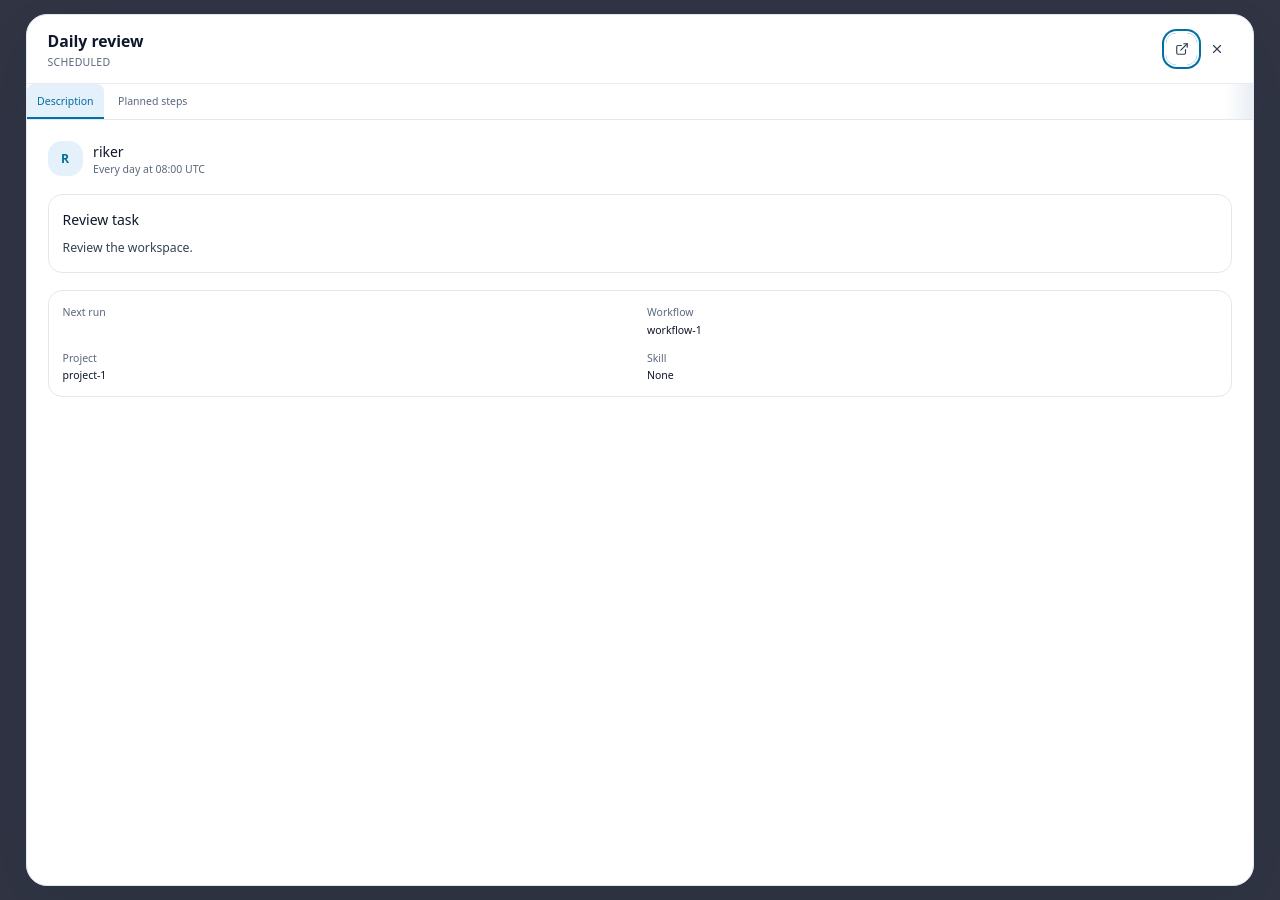
Test: ScheduleDashboardModal › retries a transient workflow failure while the modal remains open
Click the tab with test id "dashboard-schedule-modal-tab-steps": (153, 102) [108, 84, 198, 119]
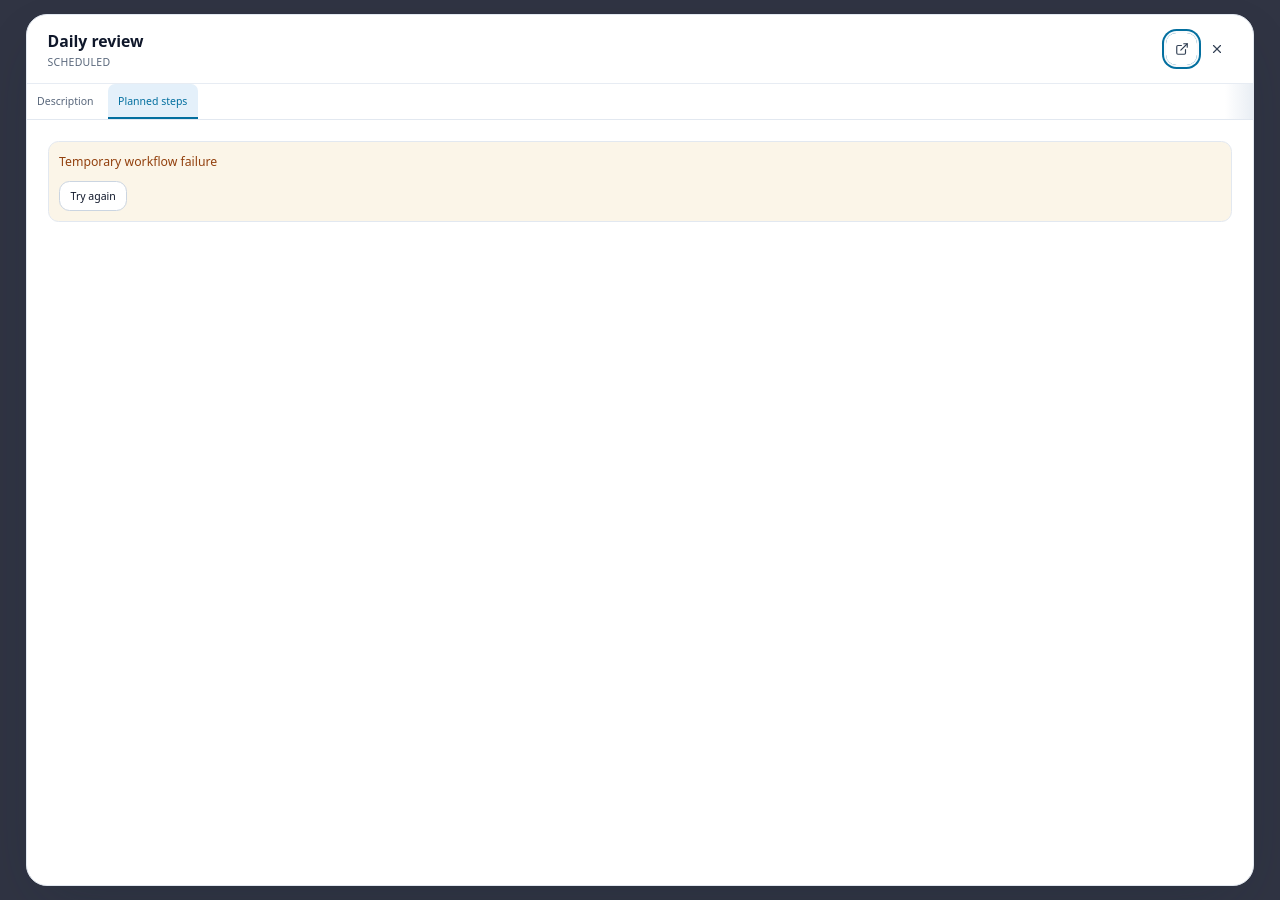
Expected: the message shows "Temporary workflow failure", [59, 153, 217, 170]
Click the button "Try again": (93, 196) [59, 181, 127, 211]
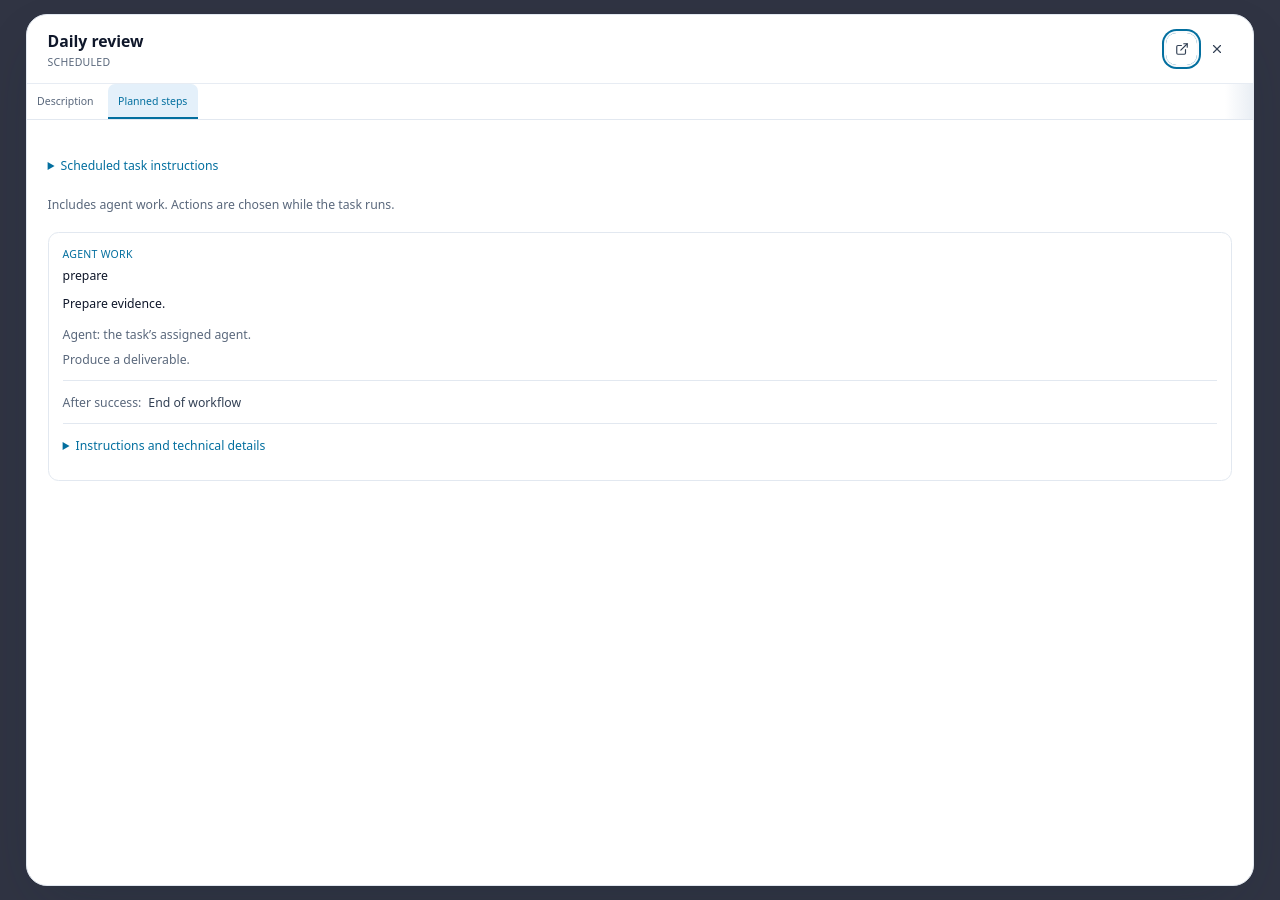
Expected: the element with test id "dashboard-schedule-planned-steps" shows "Prepare evidence.", [63, 295, 165, 312]
